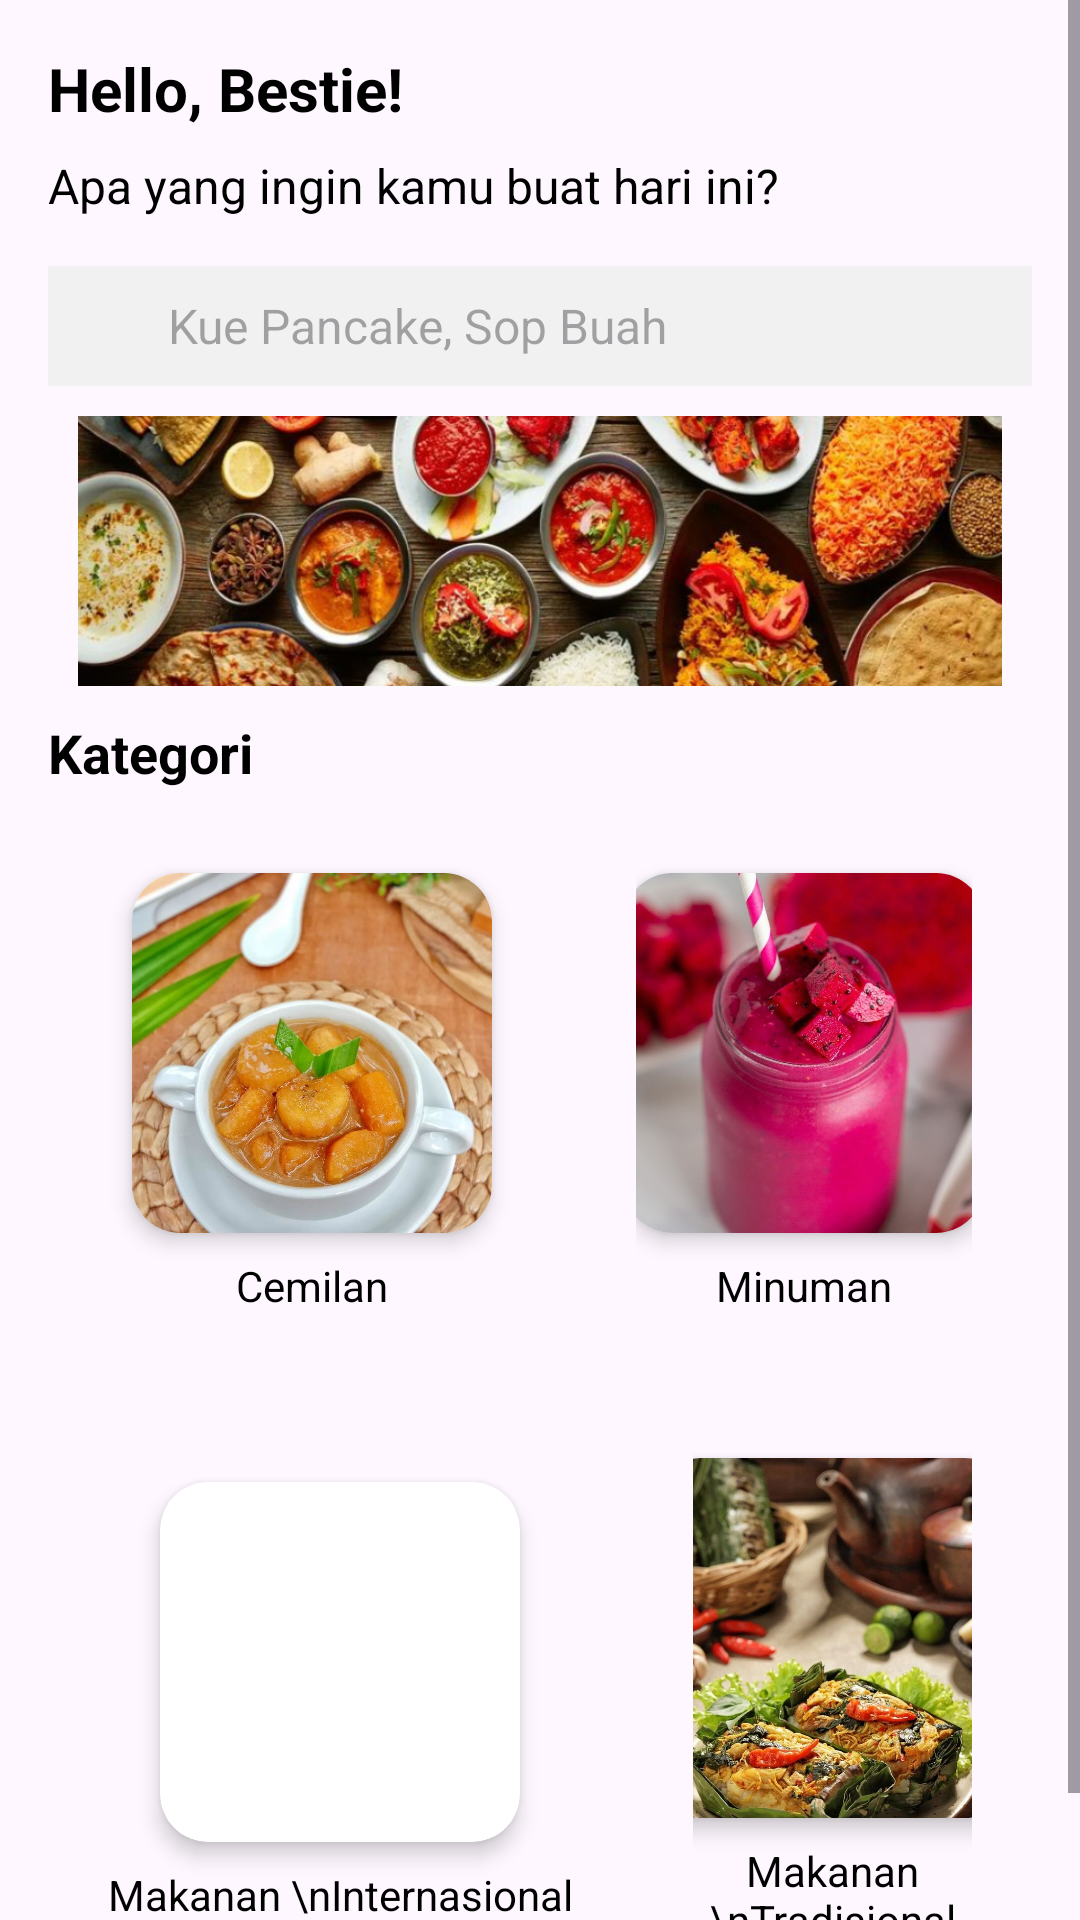

Named icons in this screenshot (1080x1920) and their centers, (x,y):
kolek: (312,1053)
